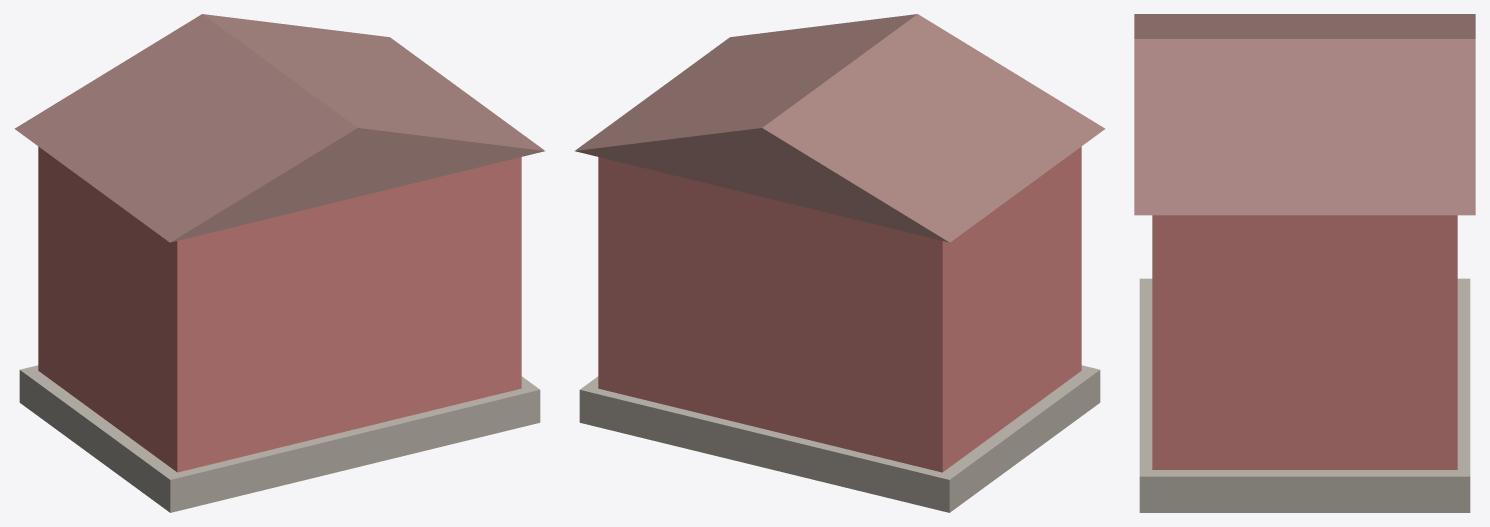
File: red_barn_cupola_far-BkzCFox3.glb
3 views of the same model, side by side, from view 1: azimuth 30°, elevation 25°; view 2: azimuth 150°, elevation 25°; view 3: azimuth 270°, elevation 25° (orthographic). The views are drawn at different scales.
Visible parts, largest first — view 1: red_barn_cupola_far; view 2: red_barn_cupola_far; view 3: red_barn_cupola_far.
Boxes of the visible parts, box(x1,y1,x2,y2) form: red_barn_cupola_far: box(14, 14, 544, 512); red_barn_cupola_far: box(575, 14, 1105, 512); red_barn_cupola_far: box(1134, 14, 1475, 512).
Size of the model in its own units: 6.55 by 5.69 by 4.7.
